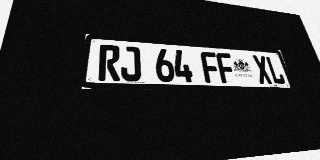4: (172, 49, 193, 82)
6: (154, 48, 175, 82)
F: (200, 51, 221, 83), (215, 53, 237, 83)
J: (121, 46, 141, 81)
L: (265, 56, 286, 84)
R: (98, 44, 120, 81)
X: (252, 55, 273, 84)
